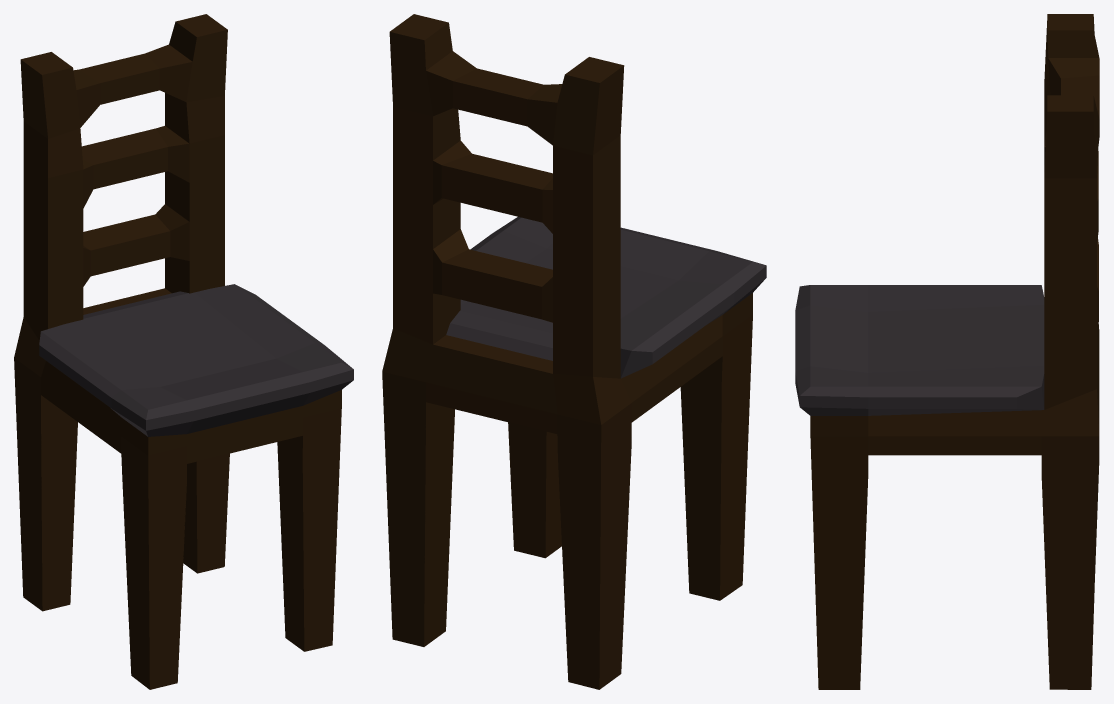
The model's file is Chair.fbx.
3 renders of one model, left to right at view 1: azimuth 30°, elevation 25°; view 2: azimuth 150°, elevation 25°; view 3: azimuth 270°, elevation 25°, orthographic. The views are drawn at different scales.
Parts seen in each view (by area): view 1: Cube; view 2: Cube; view 3: Cube.
Boxes of the visible parts, <box> form: Cube: <box>14,14,353,689</box>; Cube: <box>382,14,766,689</box>; Cube: <box>795,14,1099,689</box>.
Size of the model in its own units: 110 by 265 by 126.
